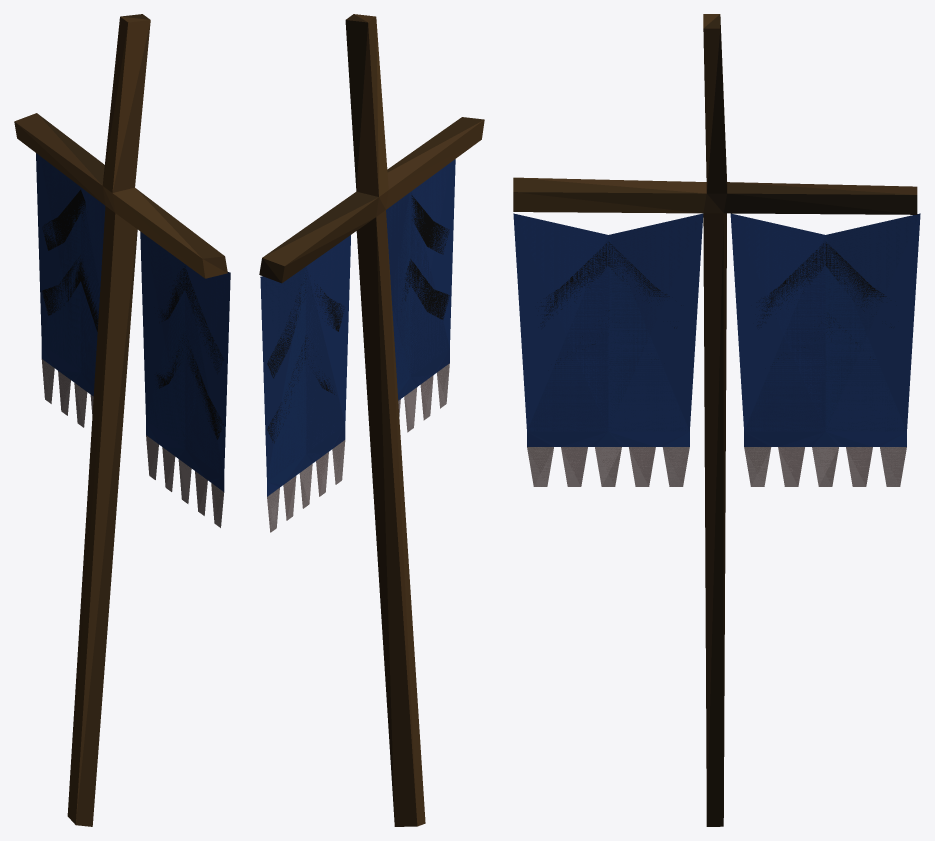
Rendered from tapestry_pole.obj.
3 views of the same model, side by side, from view 1: azimuth 30°, elevation 25°; view 2: azimuth 150°, elevation 25°; view 3: azimuth 270°, elevation 25° (orthographic). The views are drawn at different scales.
Visible parts, largest first — view 1: Object Standard 2026-09-21_11-31-44; view 2: Object Standard 2026-09-21_11-31-44; view 3: Object Standard 2026-09-21_11-31-44.
Part boxes in pixels (<box>): Object Standard 2026-09-21_11-31-44: <box>14,14,230,826</box>; Object Standard 2026-09-21_11-31-44: <box>259,14,484,826</box>; Object Standard 2026-09-21_11-31-44: <box>513,14,920,826</box>.
Size of the model in its own units: 26 by 270 by 120.
